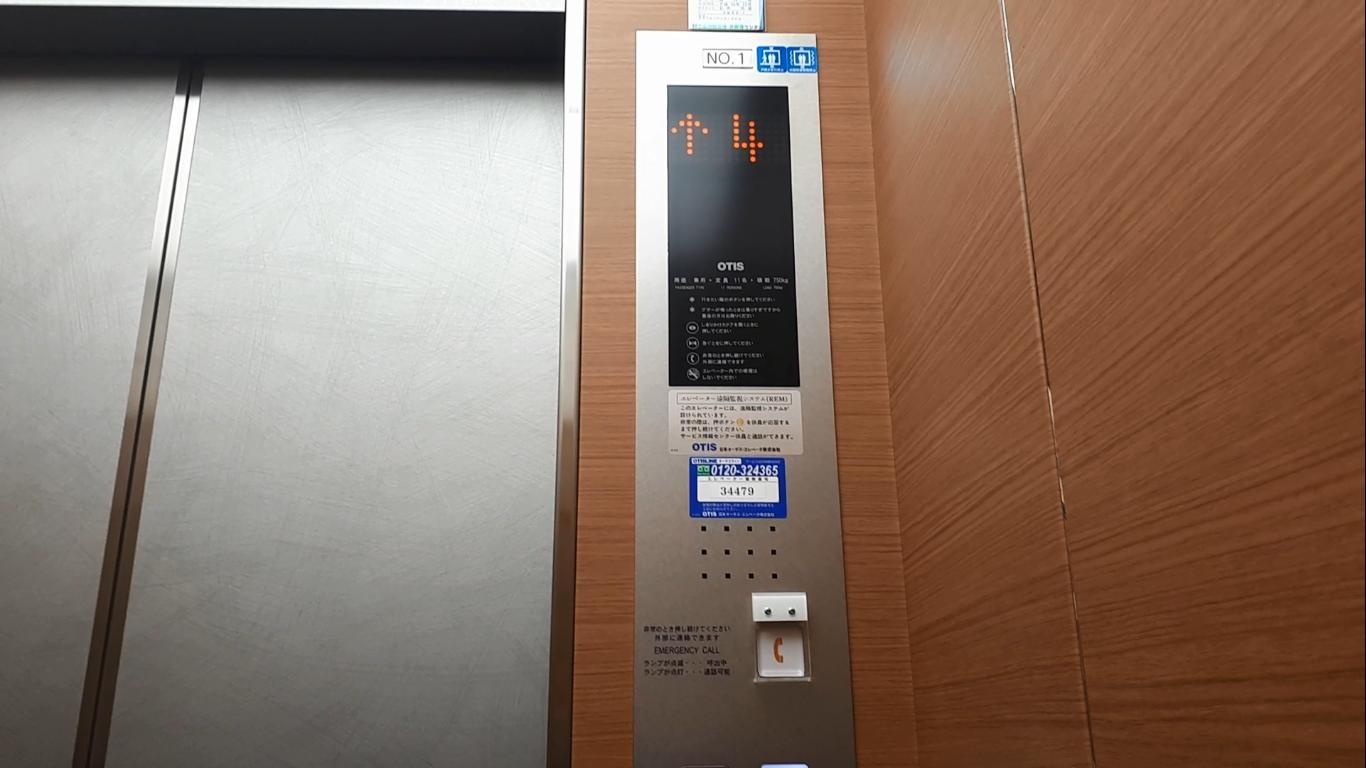call: (750, 615, 814, 689)
led: (656, 80, 807, 394)
